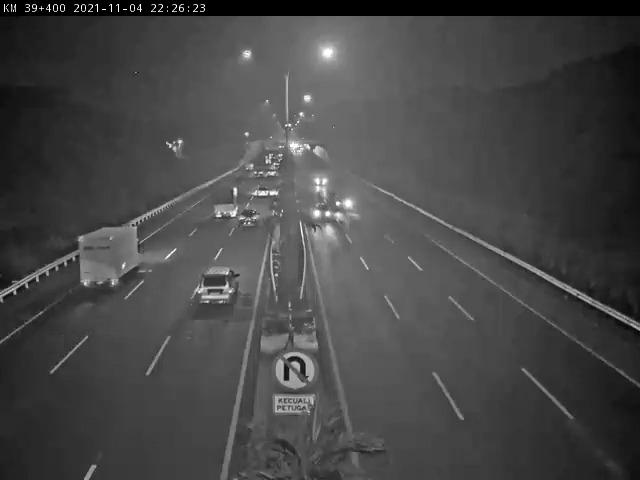car: (197, 267, 239, 302), (312, 203, 330, 221), (335, 192, 352, 211), (238, 210, 258, 224), (313, 172, 330, 185), (256, 186, 269, 198)
truck-m-: (79, 225, 141, 289), (213, 186, 241, 218)
